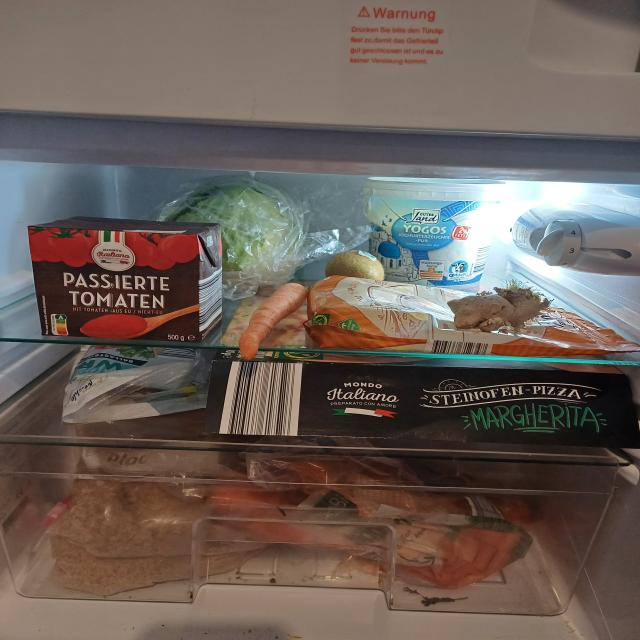Ginger: (448, 282, 552, 333)
Pizza: (219, 349, 640, 452)
Plastic bag: (62, 448, 229, 584)
Tomato Puree: (26, 215, 219, 339)
Tortilla: (70, 343, 208, 420)
Yogurt: (367, 173, 493, 286)
cabbage: (168, 183, 301, 295)
carrot: (242, 274, 304, 365)
carrots: (219, 455, 518, 582)
kiwi: (321, 245, 386, 278)
